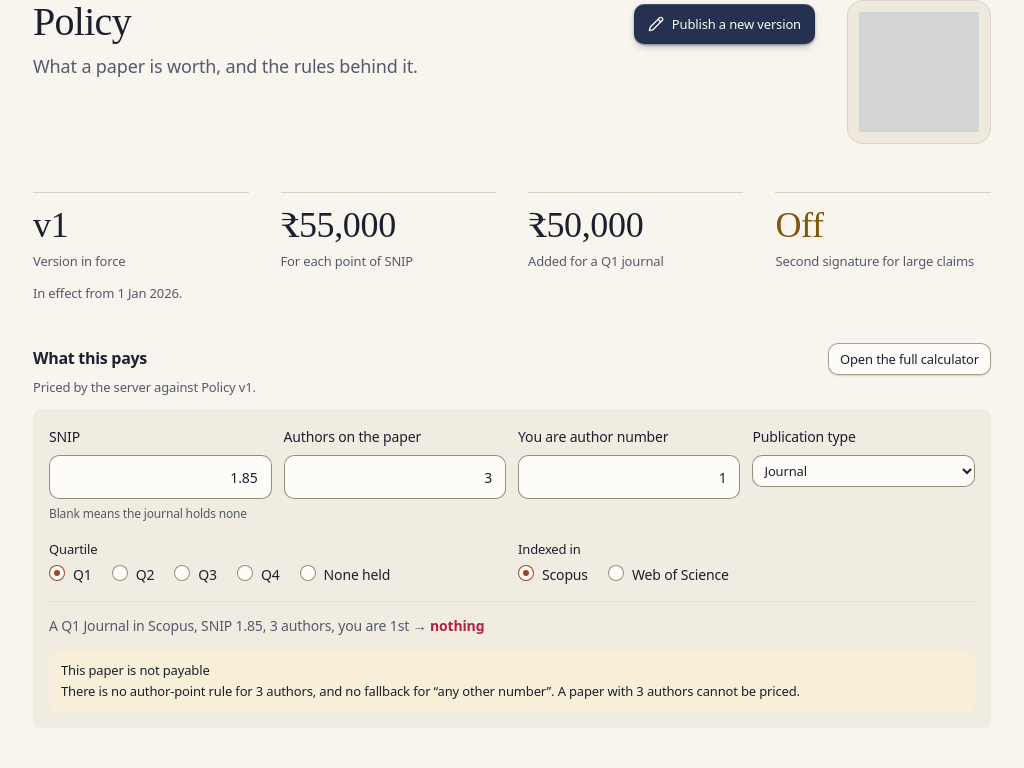
Test: the quartile amounts › no longer offers the switch the calculator never read
Click the button "Publish a new version": {"x": 724, "y": 24} [634,4,815,44]
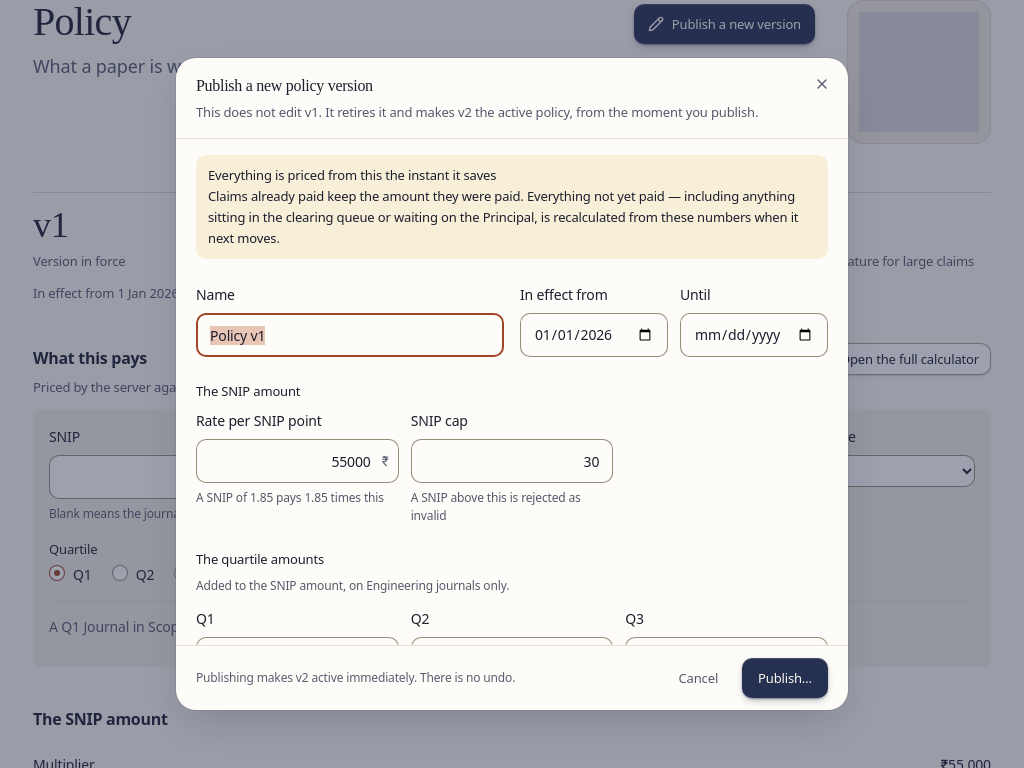
Check: the dialog is shown, box [176,58,848,710]
